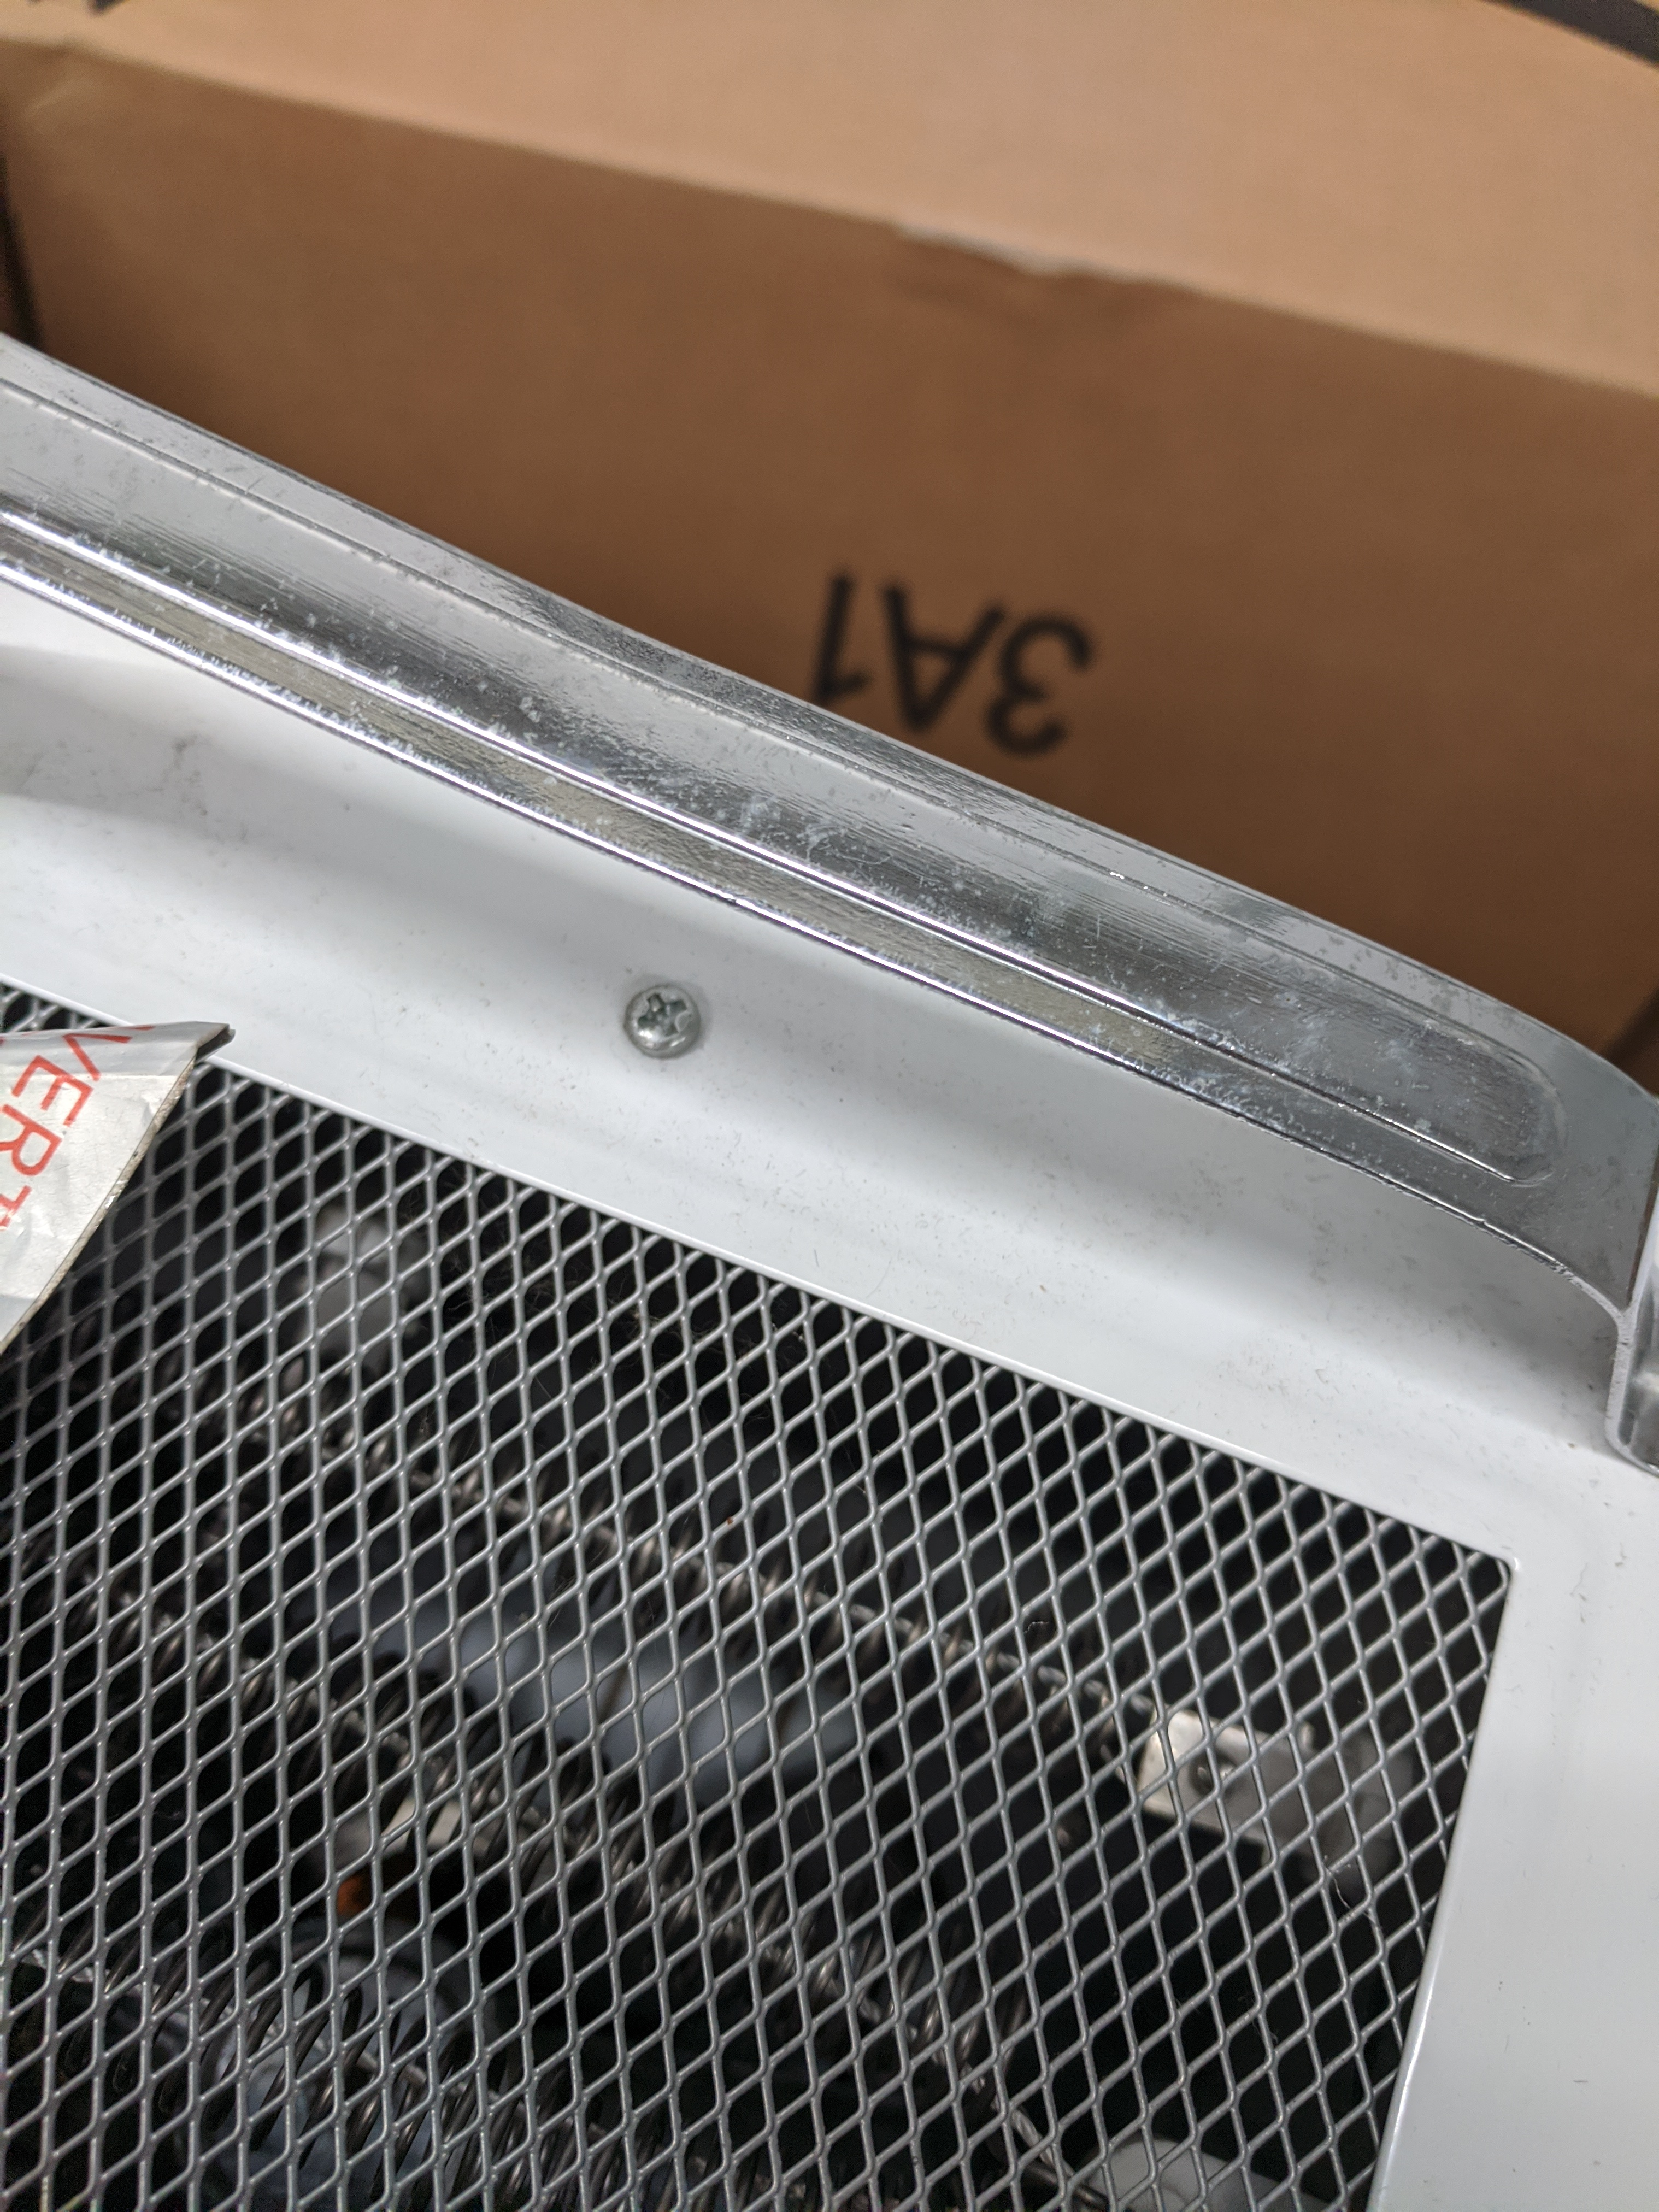cross_recessed_screw: (617, 975, 714, 1059)
